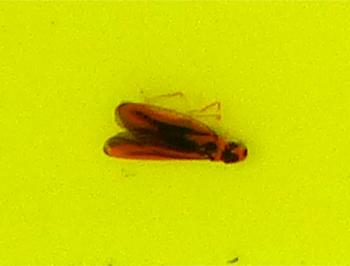Hemiptera: (100, 100, 250, 166)
